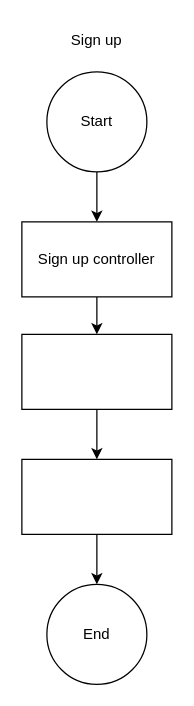
This 194x706 diagram has some shape labels left out. Here are the shapes that lost their labels. From the top down, the centre of each, then its label:
At pixel 96 371: "Hash & salt the password".
At pixel 96 496: "Save the data to database".
